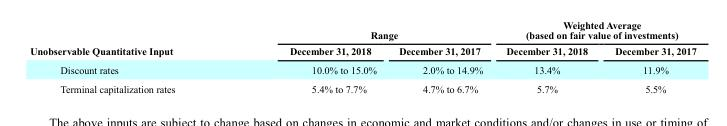table: (29, 28, 695, 94)
table column: (29, 28, 231, 94), (231, 28, 387, 94), (493, 28, 600, 94), (387, 28, 493, 94), (600, 28, 695, 94)
table column header: (29, 28, 695, 60)
table row: (29, 60, 695, 79), (29, 42, 695, 60), (29, 79, 695, 94), (29, 28, 695, 42)
table spanning cell: (29, 28, 231, 60), (231, 28, 493, 42), (493, 28, 695, 42)
